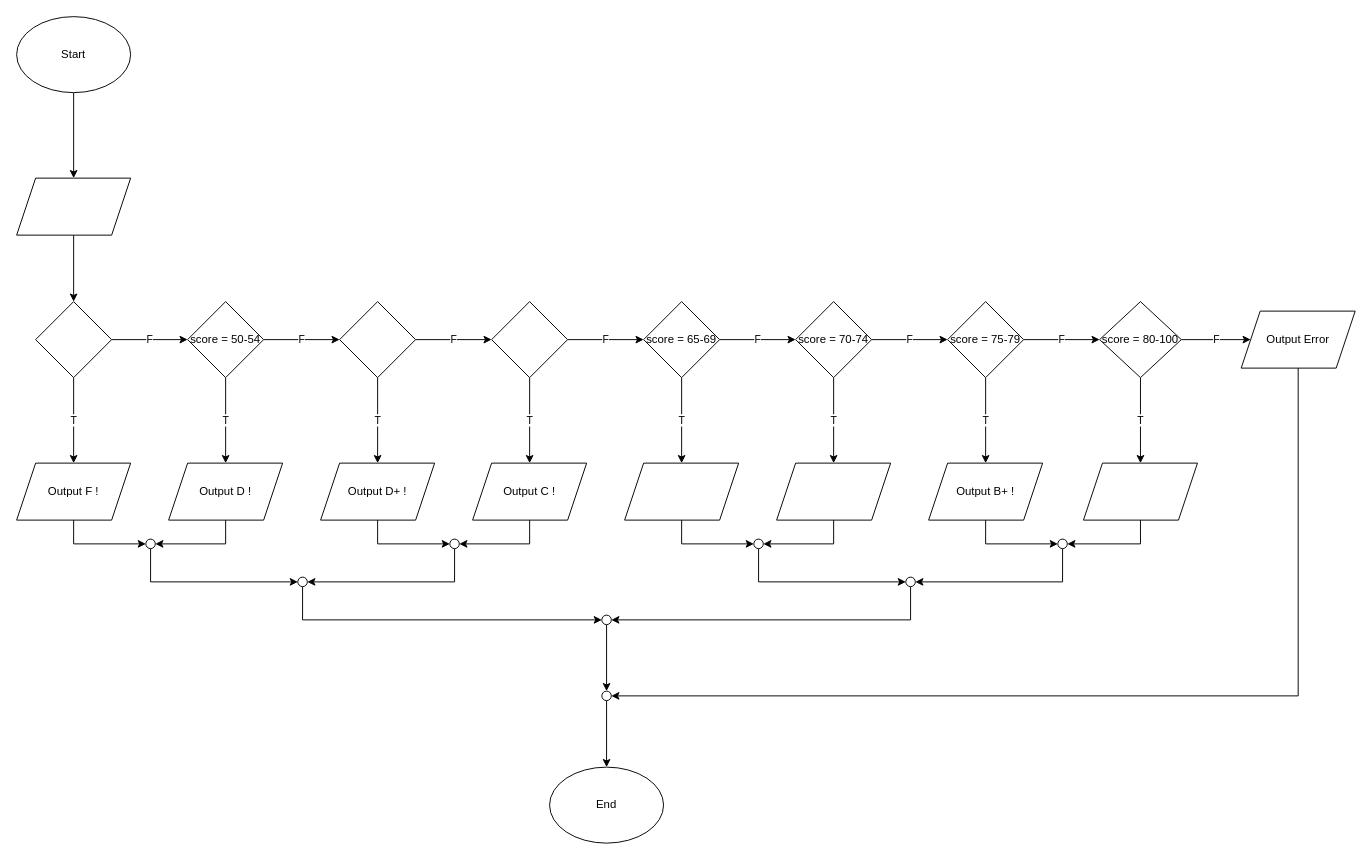
Image size: 1372x860. Some labels were removed from this diagram. Here are the shapes that lost their labels. From the top down, the centre of each, then its label:
point 73,206: Input score
point 73,339: score = 0-49
point 377,339: score = 55-59
point 529,339: score = 60-64
point 681,491: Output C+ !
point 833,491: Output B !
point 1140,491: Output A !
